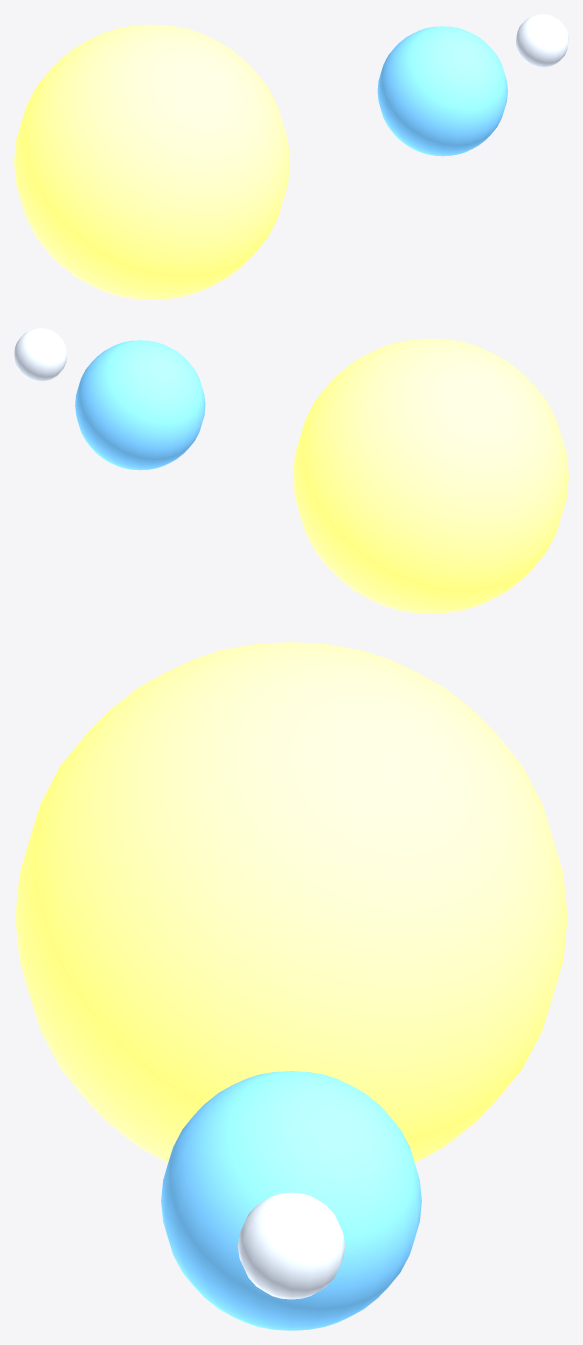
The model's file is solar-system.glb.
3 views of the same model, one above another, from view 1: azimuth 30°, elevation 25°; view 2: azimuth 150°, elevation 25°; view 3: azimuth 270°, elevation 25° (orthographic). The views are drawn at different scales.
Visible parts, largest first — view 1: Core_Sun, Planet_Earth, Moon_Satellite; view 2: Core_Sun, Planet_Earth, Moon_Satellite; view 3: Core_Sun, Planet_Earth, Moon_Satellite.
Boxes of the visible parts, bbox=[...] form: Core_Sun: bbox=[14, 24, 289, 299]; Planet_Earth: bbox=[377, 26, 507, 156]; Moon_Satellite: bbox=[515, 14, 568, 67]; Core_Sun: bbox=[293, 338, 568, 613]; Planet_Earth: bbox=[75, 340, 205, 470]; Moon_Satellite: bbox=[14, 328, 67, 381]; Core_Sun: bbox=[15, 642, 567, 1162]; Planet_Earth: bbox=[161, 1071, 421, 1330]; Moon_Satellite: bbox=[238, 1192, 344, 1299].
Bounding box in the file's own units: 3.21 × 1.44 × 1.44.
